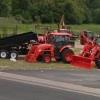Tractor: (22, 21, 100, 68)
